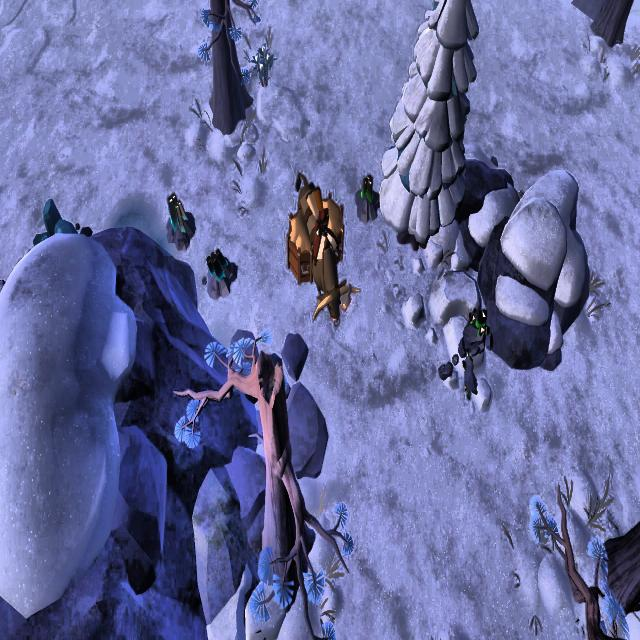fiber_t4: (252, 42, 274, 86)
ore_t3: (358, 166, 374, 207)
ore_t4: (166, 189, 190, 234), (204, 243, 229, 284)
rock_t4: (32, 193, 89, 249)
